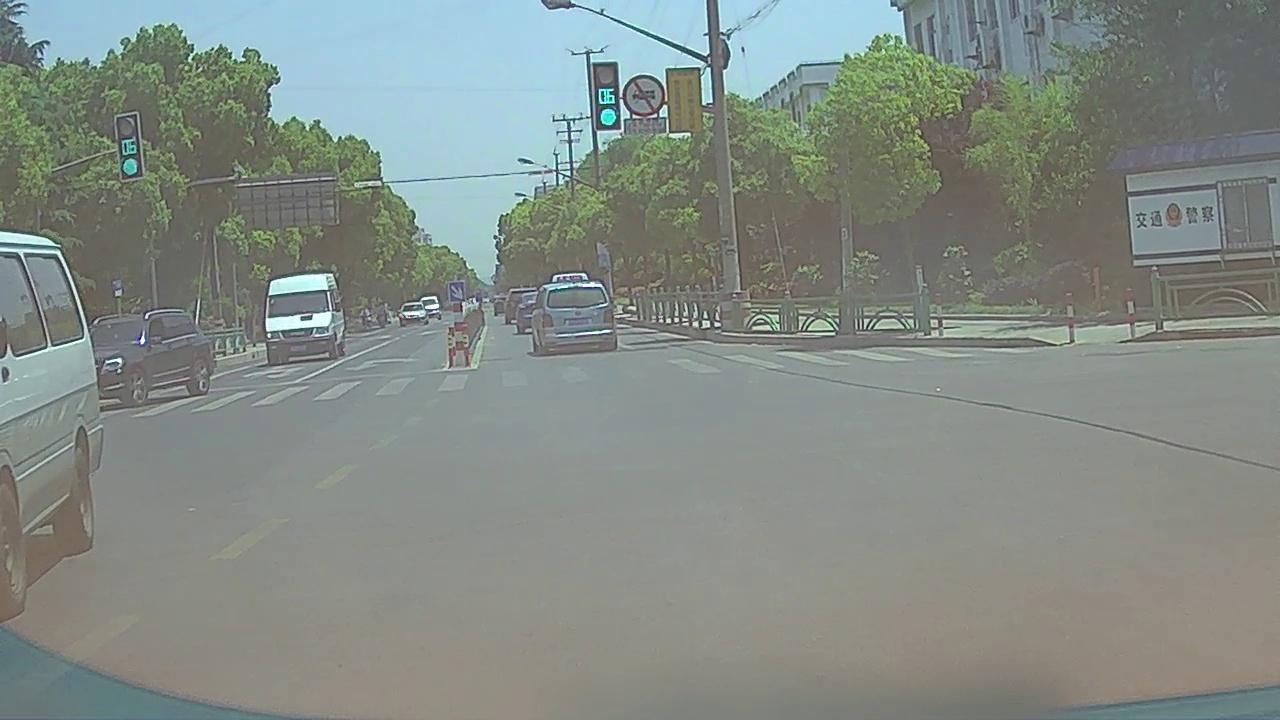traffic_light: (594, 62, 620, 129), (117, 117, 141, 179)
